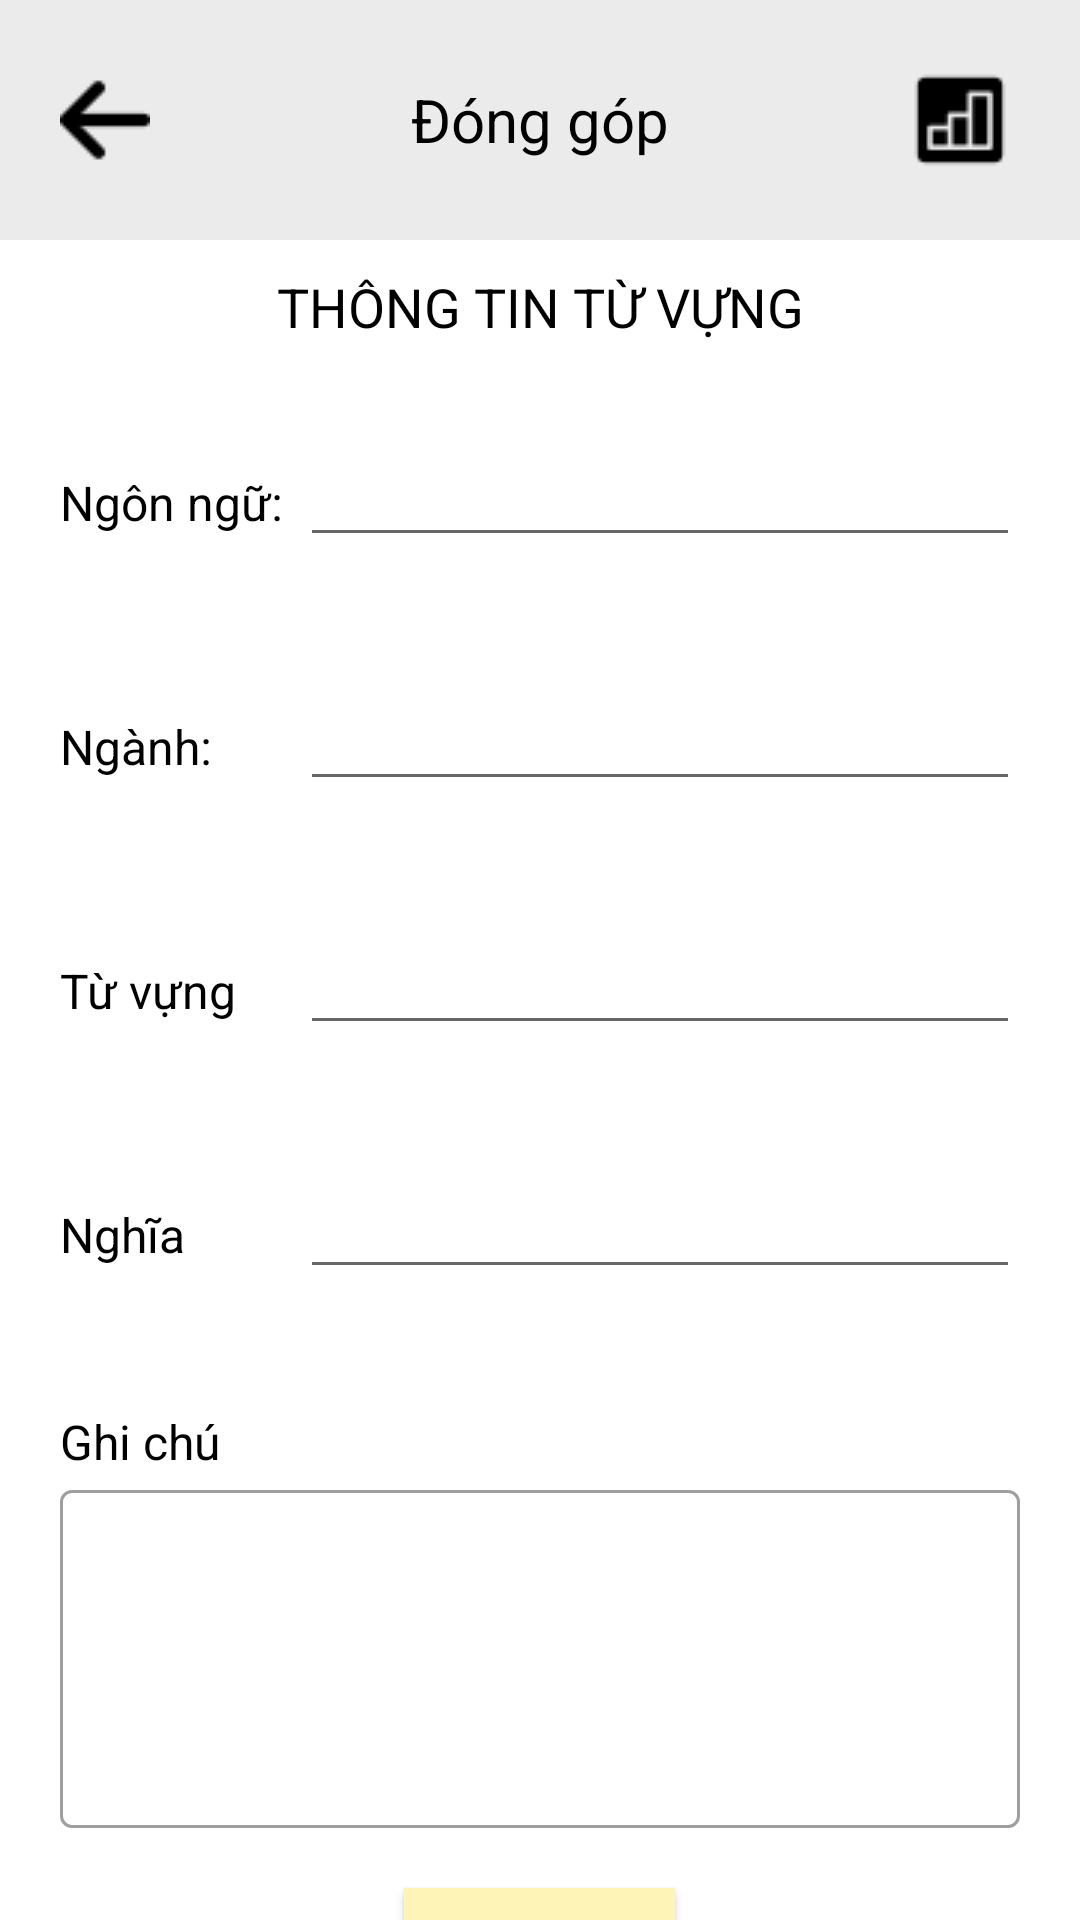

Where icons sit on this 1080px x 1920px app screen, as BBox(x1, y1, x2, y2):
back: BBox(60, 80, 150, 160)
contribute rank: BBox(915, 75, 1005, 165)
